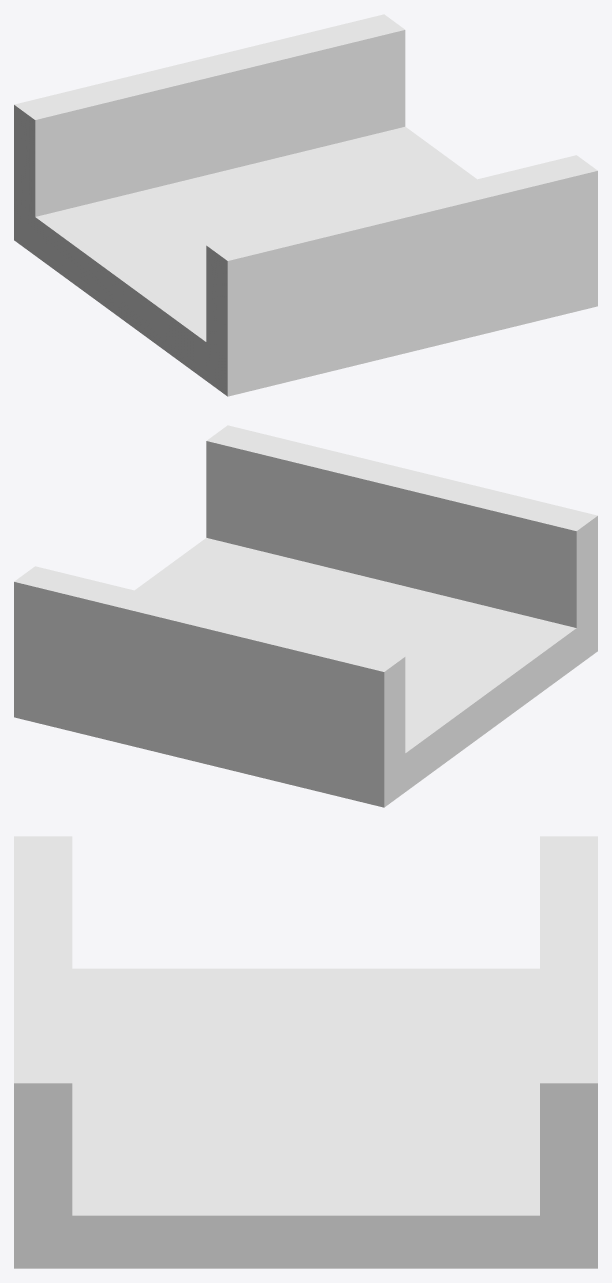
File: WhiteRoof_2Edges_Small.glb
3 views of the same model, one above another, from view 1: azimuth 30°, elevation 25°; view 2: azimuth 150°, elevation 25°; view 3: azimuth 270°, elevation 25° (orthographic). The views are drawn at different scales.
Visible parts, largest first — view 1: roof_flat_2Edges_small_white; view 2: roof_flat_2Edges_small_white; view 3: roof_flat_2Edges_small_white.
Part boxes in pixels (x1,y1,x2,y2): roof_flat_2Edges_small_white: (14, 14, 597, 396); roof_flat_2Edges_small_white: (14, 425, 597, 807); roof_flat_2Edges_small_white: (14, 836, 597, 1268).
Size of what is drawn, in the model's own units: 2 by 0.7 by 2.
1 material, 1 textured.
